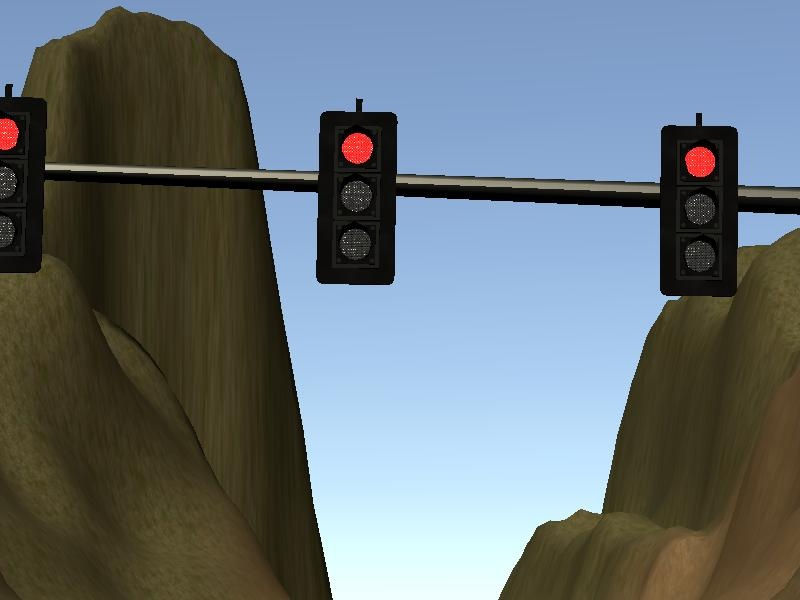RED: (313, 110, 399, 288), (657, 124, 741, 297)
